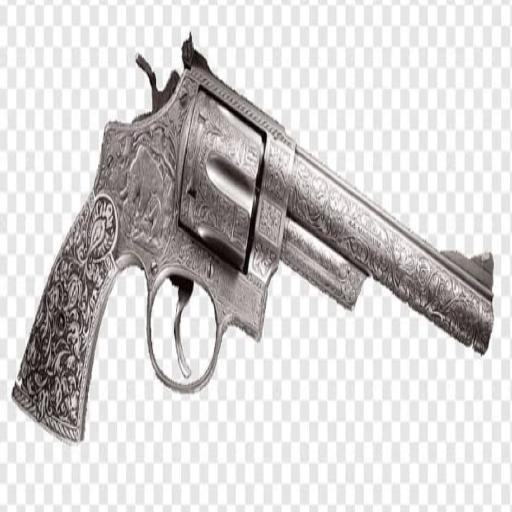Gun: (12, 38, 492, 439)
